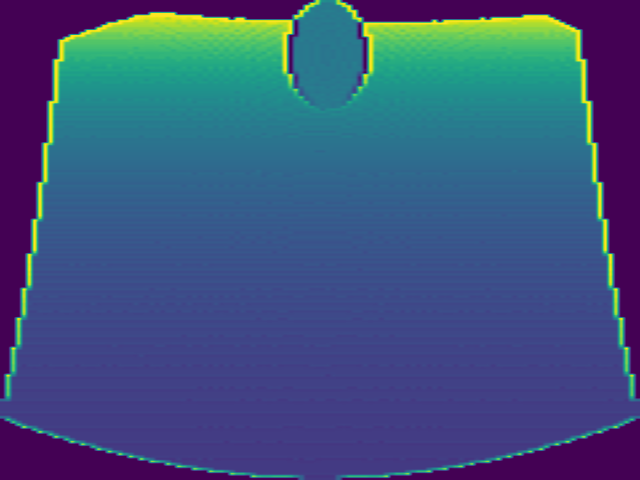sphere: (281, 1, 371, 110)
